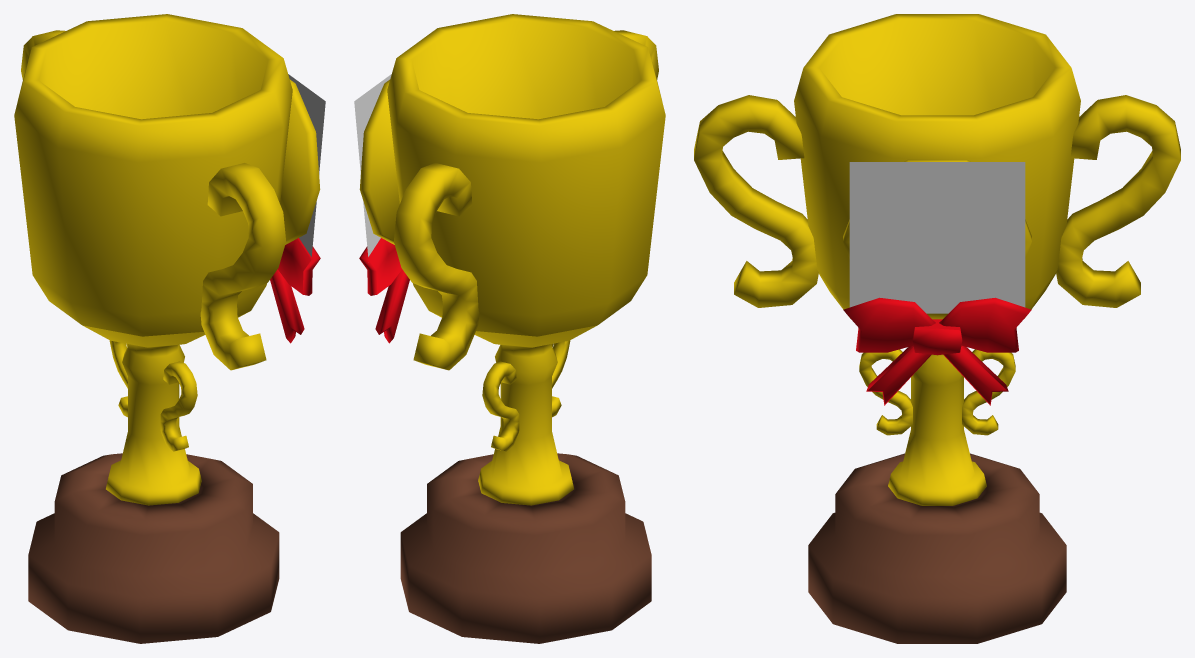
File: Trophy.fbx
The picture shows the model from 3 angles, left to right: view 1: azimuth 30°, elevation 25°; view 2: azimuth 150°, elevation 25°; view 3: azimuth 270°, elevation 25°; orthographic projection.
Visible parts, largest first — view 1: Obj_Trophy; view 2: Obj_Trophy; view 3: Obj_Trophy.
Boxes of the visible parts, bbox=[...] form: Obj_Trophy: bbox=[14, 14, 325, 643]; Obj_Trophy: bbox=[354, 14, 665, 643]; Obj_Trophy: bbox=[694, 14, 1180, 643].
Size of the model in its own units: 553 by 325 by 657.
